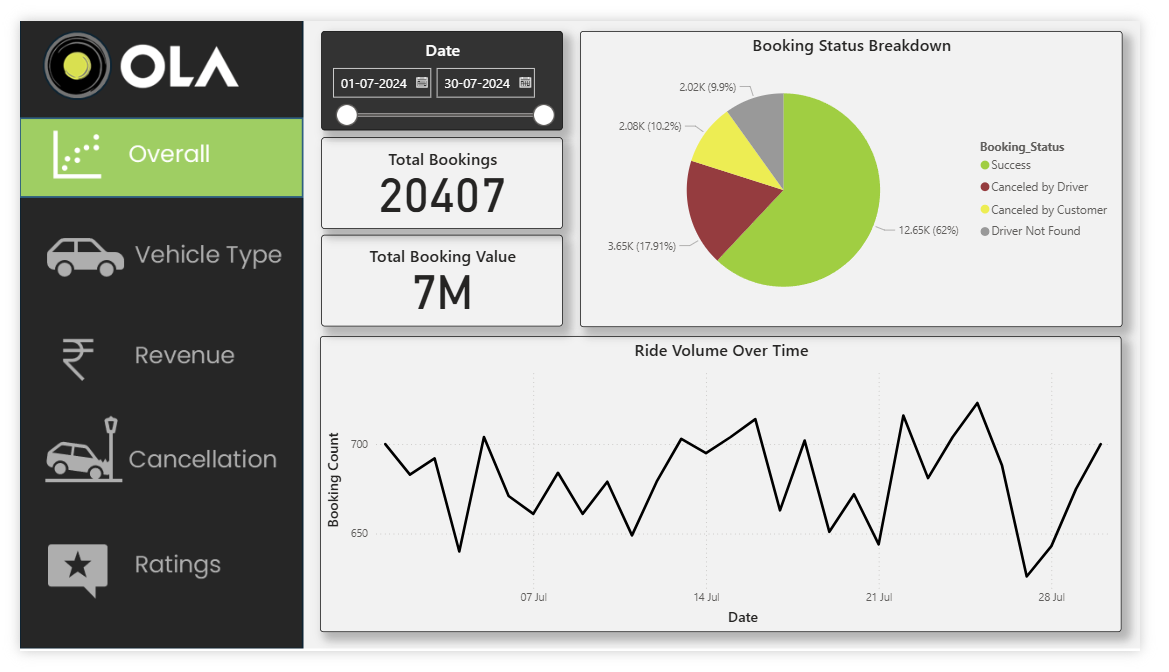

This screenshot's page, from the dashboard's own definition file:
{"tool":"powerbi","page":{"name":"Overall","canvas":[1280,720],"ordinal":0},"visuals":[{"type":"actionButton","box":[0,220.8,324.5,96.5],"z":0},{"type":"actionButton","box":[0,339,324.5,96.5],"z":1000},{"type":"actionButton","box":[0,445.2,324.5,96.5],"z":2000},{"type":"actionButton","box":[0,575.5,324.5,96.5],"z":3000},{"type":"lineChart","title":"Ride Volume Over Time","fields":{"Y":["CountNonNull(July.Booking_ID)"],"Category":["July.Date"]},"box":[343.4,360,916.2,338.8],"z":4000},{"type":"pieChart","title":"Booking Status Breakdown","fields":{"Category":["July.Booking_Status"],"Y":["CountNonNull(July.Booking_Status)"]},"box":[640,11.2,620,338.8],"z":5000},{"type":"slicer","title":"Date","fields":{"Values":["July.Date"]},"box":[343.8,11.2,276.2,113.8],"z":6000},{"type":"card","title":"Total Bookings","fields":{"Values":["Count(July.Booking_ID)"]},"box":[345,132.5,276.2,105],"z":7000},{"type":"card","title":"Total Booking Value","fields":{"Values":["Sum(July.Booking_Value)"]},"box":[343.8,243.8,276.2,105],"z":8000}]}

Visuals, with their boxes in screenshot pixels (x1, y1, x2, y2), scaled from the page's 1280x720 canvas onto the 1169x672 screenshot:
actionButton: select_region(0, 206, 296, 296)
actionButton: select_region(0, 316, 296, 406)
actionButton: select_region(0, 416, 296, 506)
actionButton: select_region(0, 537, 296, 627)
"Ride Volume Over Time" lineChart: select_region(314, 336, 1150, 652)
"Booking Status Breakdown" pieChart: select_region(584, 10, 1151, 327)
"Date" slicer: select_region(314, 10, 566, 117)
"Total Bookings" card: select_region(315, 124, 567, 222)
"Total Booking Value" card: select_region(314, 228, 566, 326)
